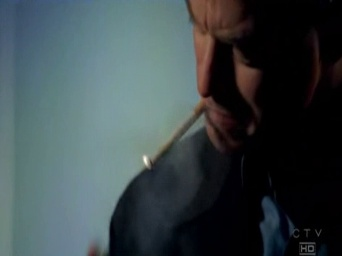smoke: (145, 102, 205, 169)
